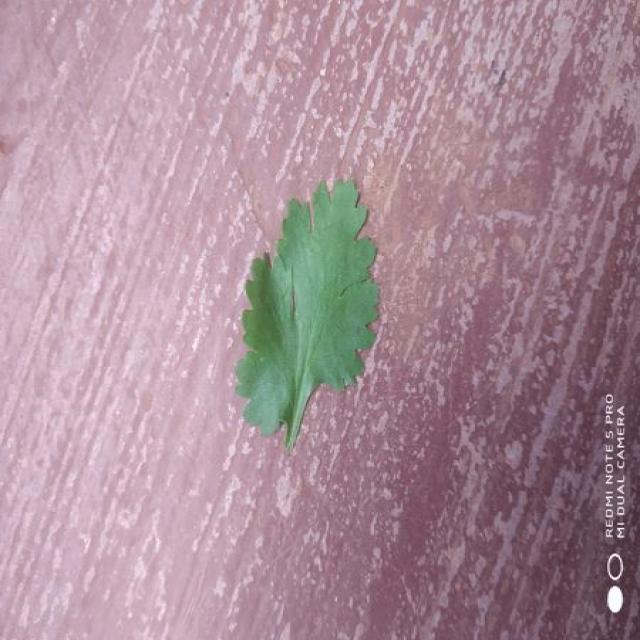coriender: (237, 181, 378, 449)
